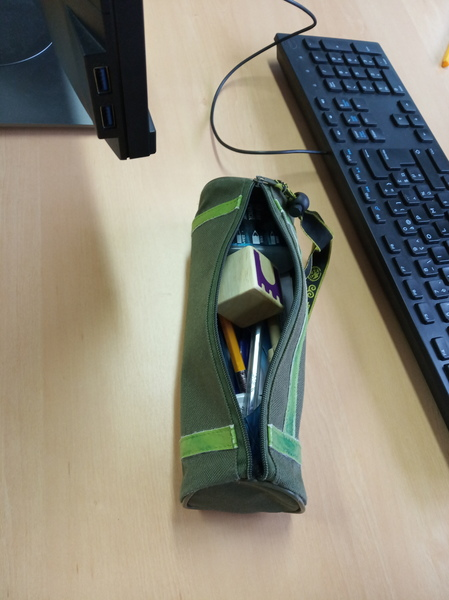violet: (229, 243, 285, 322)
